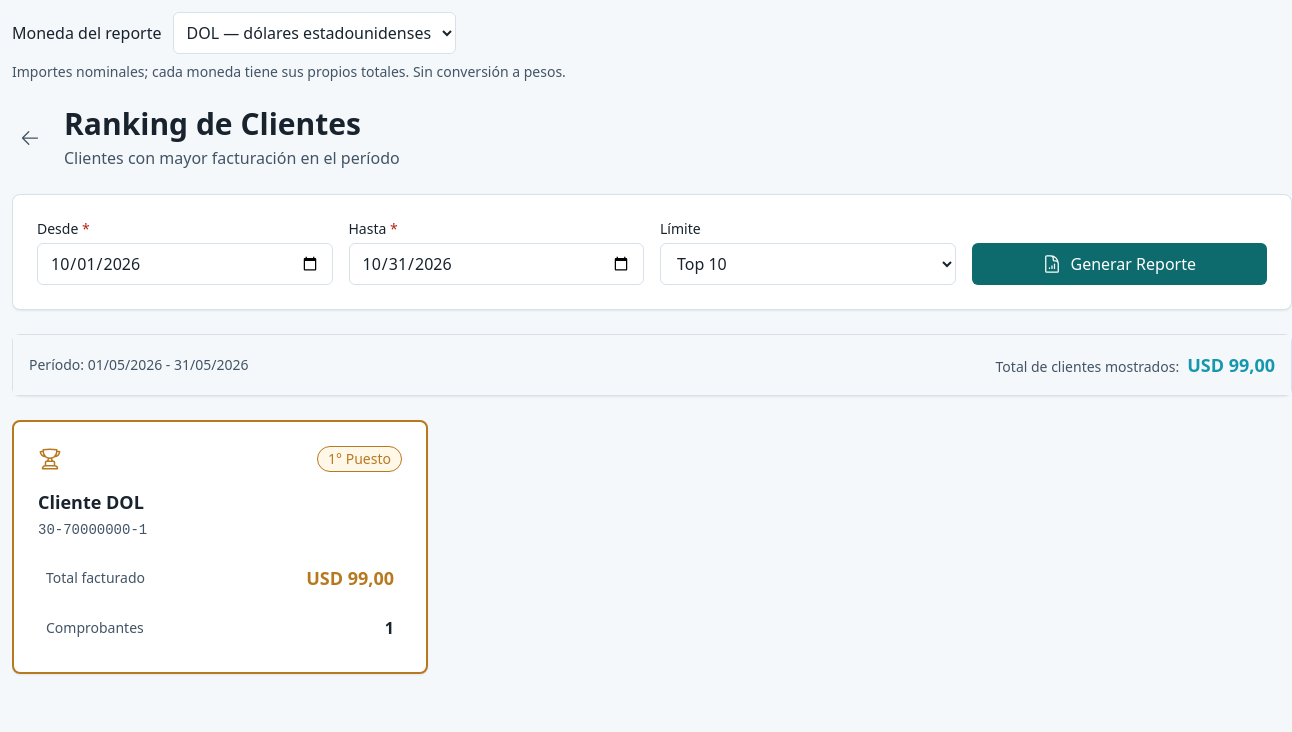
Test case: RankingClientesView › mantiene posiciones y totales independientes al cambiar moneda
Expected: the text "Cliente PES" is not shown
Select "PES — pesos argentinos" in the dropdown with id "moneda-reporte" at coordinates (315, 33), box [174,12,456,54]
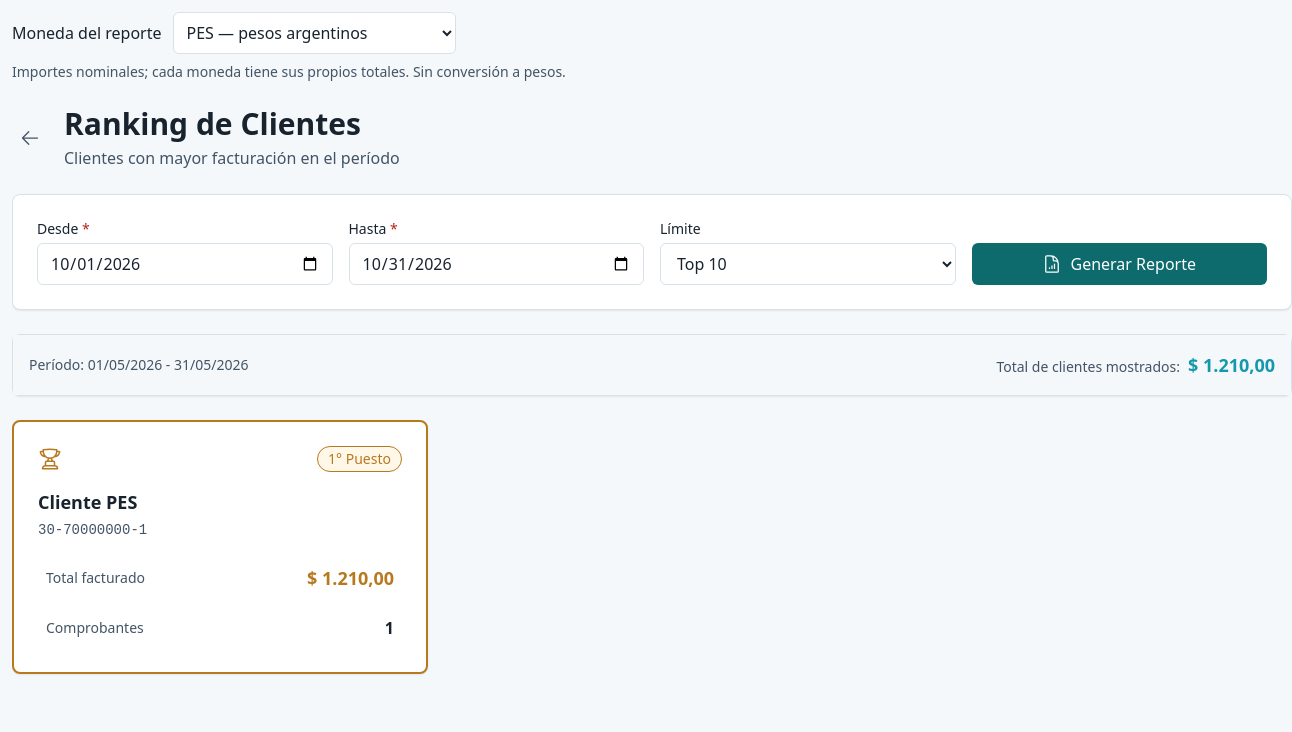
Expected: the text "1° Puesto" is shown, [317,446,402,472]
Now the text "Cliente PES" is shown, box [38,490,137,514]
Now the text "Cliente DOL" is gone
